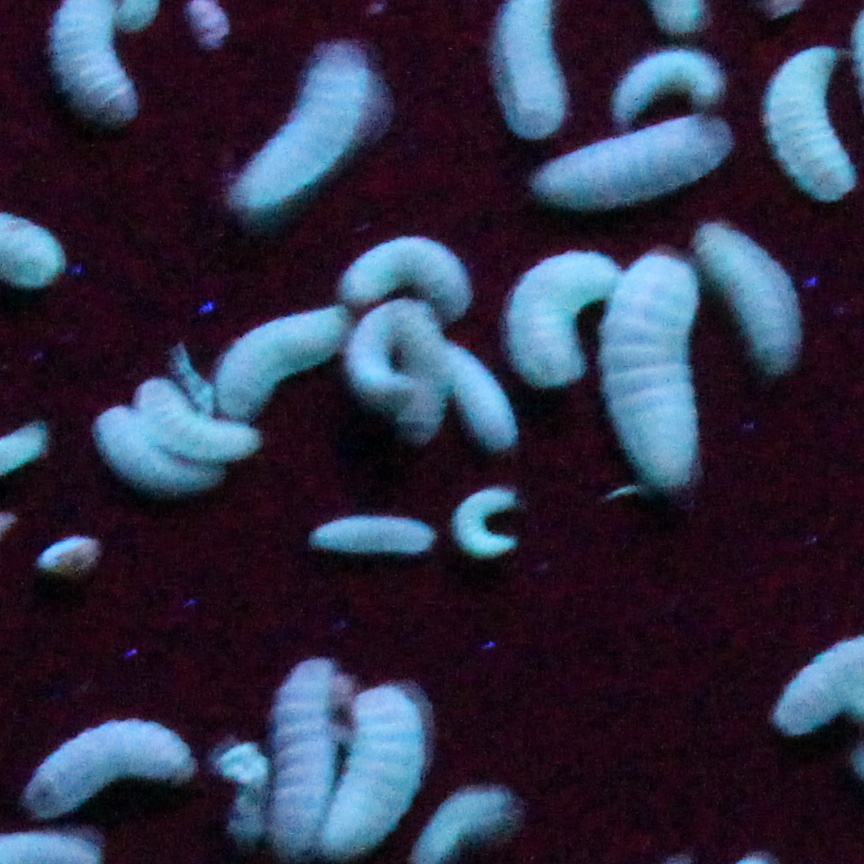larve: (228, 41, 374, 217), (619, 245, 700, 487), (337, 681, 428, 853), (546, 125, 723, 211), (707, 232, 809, 367), (274, 653, 335, 845), (223, 301, 340, 401), (510, 248, 596, 380), (30, 725, 196, 788), (779, 60, 849, 196), (107, 413, 217, 494), (349, 236, 468, 306), (142, 390, 254, 457), (616, 50, 723, 113), (405, 296, 451, 441), (421, 787, 509, 855), (446, 483, 523, 550), (458, 350, 502, 446), (358, 310, 395, 408), (317, 517, 428, 545)
